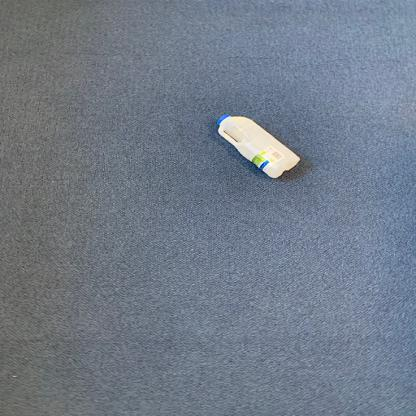trash: (212, 112, 301, 178)
